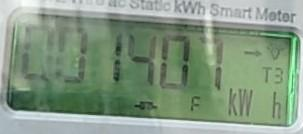.: (228, 87, 284, 122)
1: (54, 26, 90, 83), (158, 36, 192, 89), (22, 25, 53, 82)
2: (113, 29, 125, 84)
5: (127, 31, 157, 87)
8: (196, 35, 225, 91)
